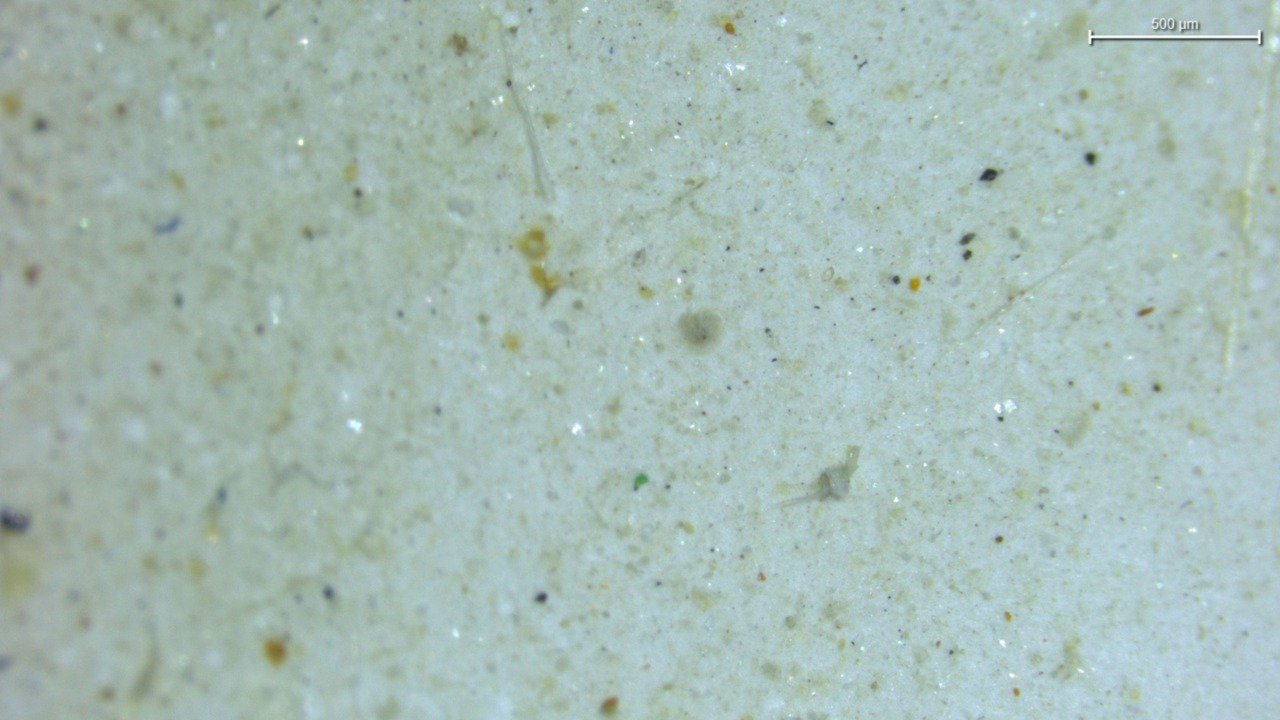microplastic_fragment: (782, 446, 860, 505)
